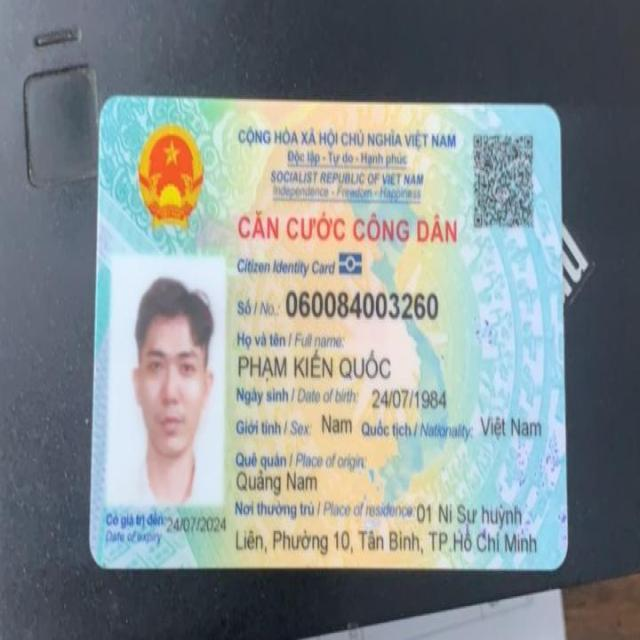bottom_left: (75, 538, 118, 580)
bottom_right: (535, 530, 576, 580)
image_person: (116, 255, 225, 500)
top_left: (88, 86, 132, 132)
top_right: (530, 92, 570, 134)
